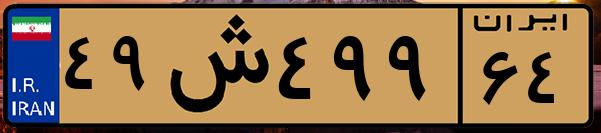4: (270, 28, 330, 110), (57, 26, 110, 100), (525, 38, 570, 115)
6: (475, 38, 525, 113)
9: (385, 28, 445, 110), (330, 28, 385, 110), (110, 28, 158, 98)
ش: (158, 12, 270, 120)
